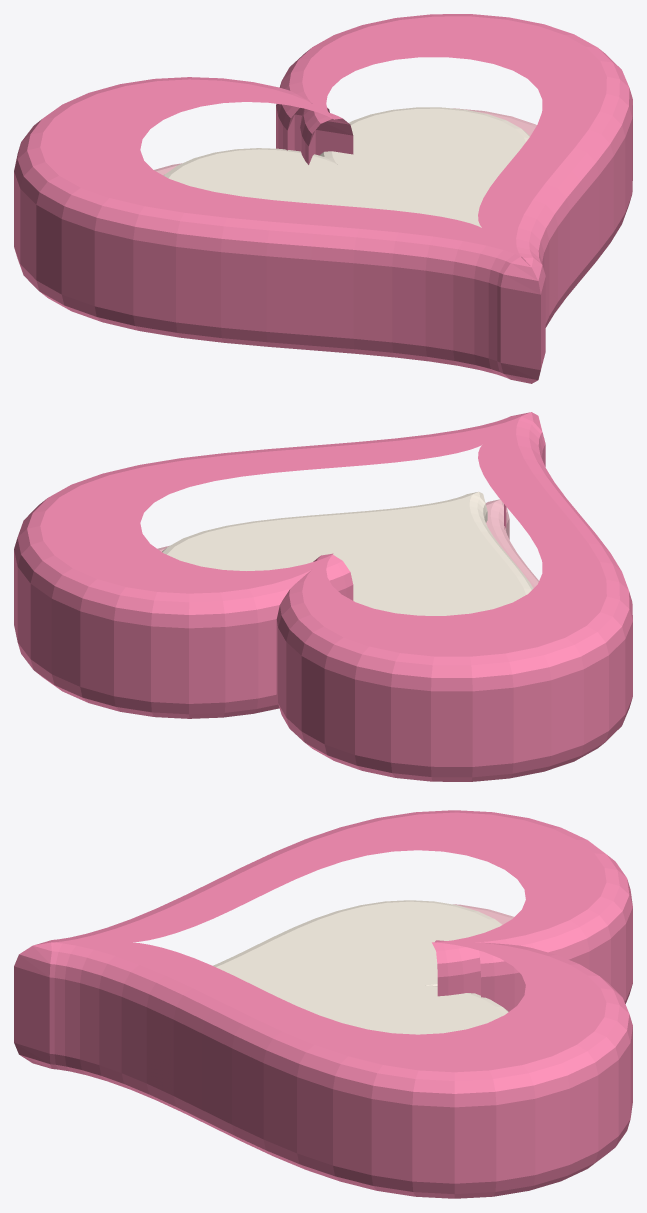
File: catbed-heart.glb
3 renders of one model, top to bottom at view 1: azimuth 30°, elevation 25°; view 2: azimuth 150°, elevation 25°; view 3: azimuth 270°, elevation 25°, orthographic.
Size of the model in its own units: 1.27 by 0.26 by 1.18.
